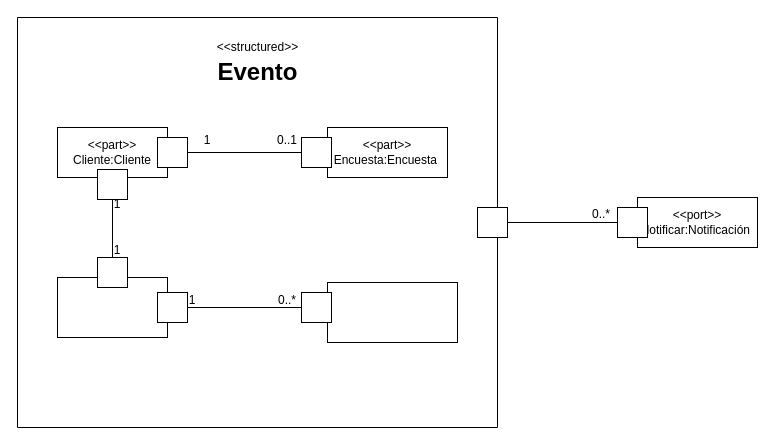
This 775x445 diagram has some shape labels left out. Here are the shapes that lost their labels. From the top down, the centre of each, then its label:
At (x=112, y=307): "<<part>> Contrato:Contrato".
At (x=392, y=312): "<<part>> Recursos:Recursos Asignados".
